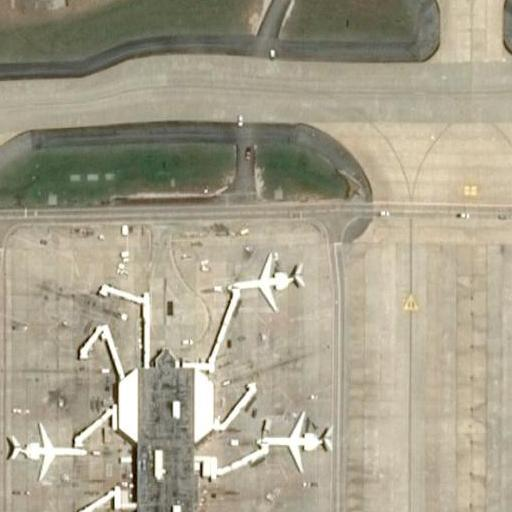Aircraft: (221, 245, 308, 320), (0, 416, 89, 484), (252, 407, 334, 477)
